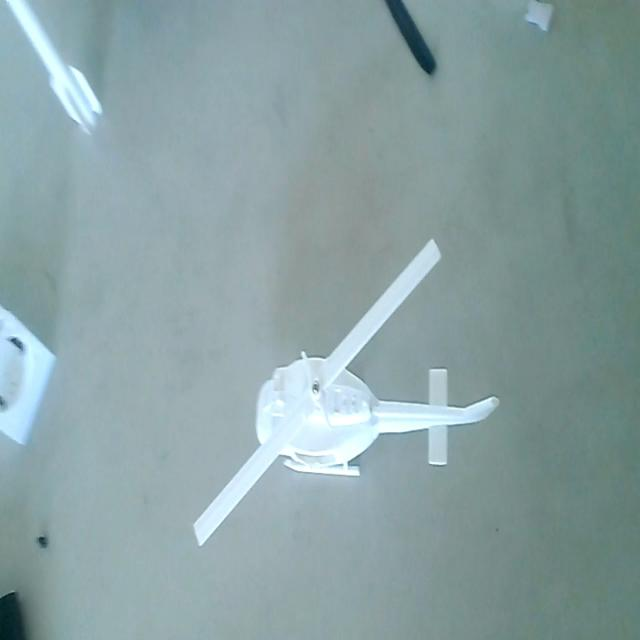Helicopter: (188, 239, 500, 557)
Rocket: (0, 0, 110, 138)
